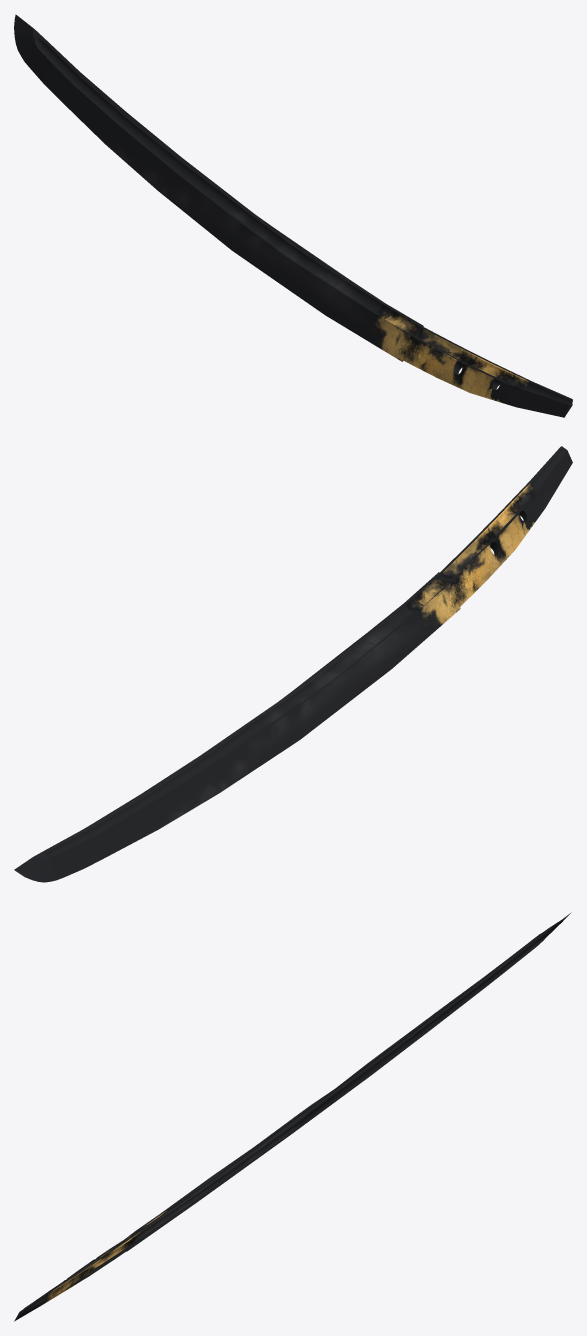
The model's file is mitutada-one.glb.
3 views of the same model, one above another, from view 1: azimuth 30°, elevation 25°; view 2: azimuth 150°, elevation 25°; view 3: azimuth 330°, elevation 25° (orthographic).
Visible parts, largest first — view 1: Plane; view 2: Plane; view 3: Plane.
Part boxes in pixels (x1,y1,x2,y2): Plane: (14,14,572,417); Plane: (14,446,572,882); Plane: (14,912,571,1321).
Size of the model in its own units: 2.17 by 2.95 by 48.97.
1 material, 1 textured.
